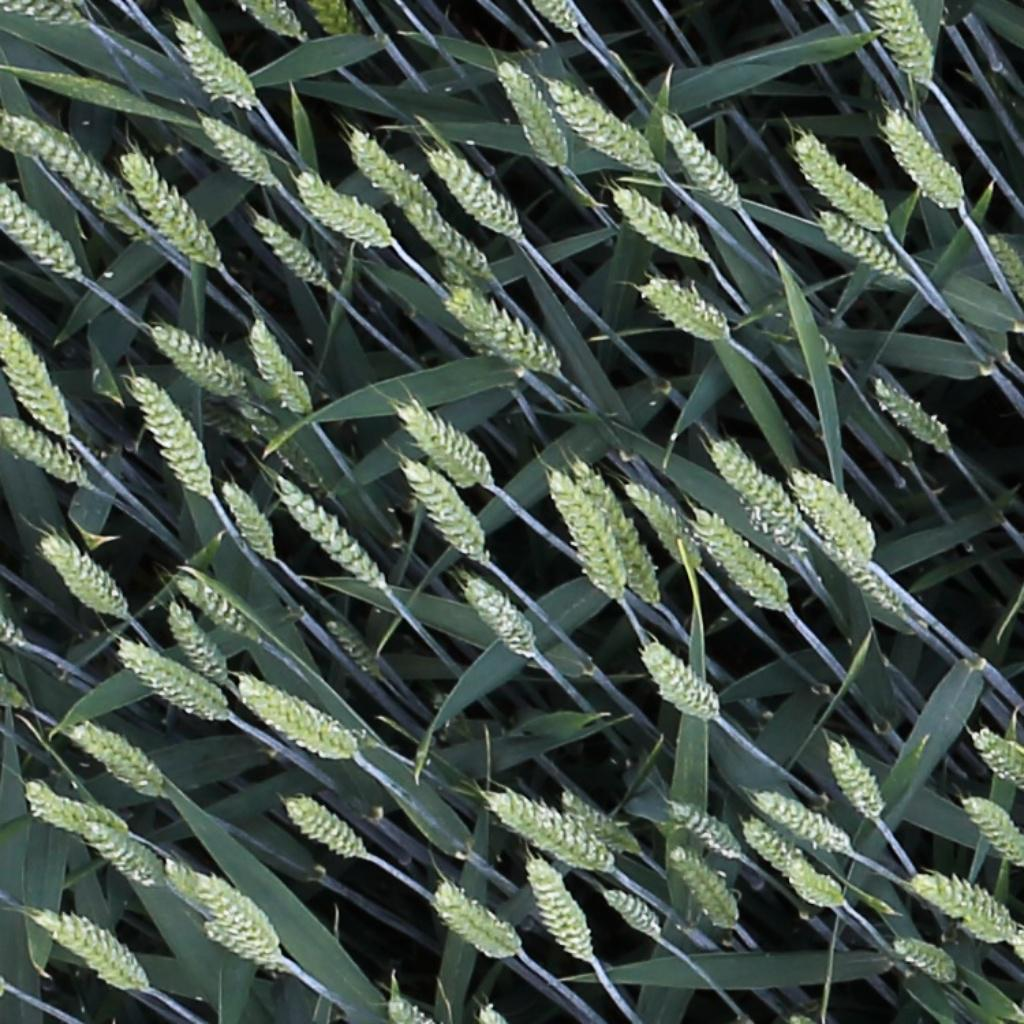0-0: (270, 475, 387, 595), (569, 466, 663, 607), (543, 462, 630, 604), (116, 147, 218, 267), (124, 374, 210, 501), (548, 81, 662, 175), (444, 283, 560, 375), (487, 792, 615, 875), (34, 910, 154, 993), (6, 111, 117, 200), (236, 679, 358, 759), (400, 453, 487, 565), (113, 640, 231, 722), (0, 308, 70, 443), (167, 865, 278, 950), (652, 107, 742, 211), (694, 513, 787, 613), (793, 129, 884, 226), (707, 439, 800, 533), (492, 60, 569, 172), (883, 109, 968, 210), (167, 17, 260, 109), (427, 146, 520, 237), (38, 534, 130, 623), (522, 854, 593, 968), (0, 180, 81, 279), (906, 873, 1018, 944), (296, 172, 393, 252), (345, 125, 435, 211), (793, 468, 876, 561), (243, 314, 315, 420), (816, 532, 903, 615), (608, 185, 705, 259), (432, 880, 521, 960), (397, 405, 490, 481), (401, 199, 488, 279), (664, 847, 740, 932), (159, 599, 228, 692), (638, 643, 718, 723), (66, 727, 159, 793), (817, 207, 902, 279), (172, 574, 258, 645), (248, 210, 326, 288), (869, 376, 950, 451), (195, 111, 276, 186), (640, 278, 728, 347), (211, 475, 277, 566), (753, 794, 849, 856), (462, 578, 536, 658), (73, 823, 159, 888), (147, 326, 240, 386), (623, 479, 690, 562), (823, 737, 884, 827), (0, 416, 81, 483), (282, 798, 364, 864), (557, 790, 636, 856), (24, 782, 126, 832), (961, 795, 1024, 872), (875, 1, 932, 86), (666, 802, 742, 862), (197, 918, 281, 972), (738, 816, 804, 884), (320, 614, 380, 682), (158, 348, 238, 397), (972, 730, 1024, 794), (891, 937, 957, 984), (984, 225, 1024, 301), (96, 194, 157, 242), (602, 888, 660, 936), (237, 0, 300, 40), (787, 868, 846, 910), (311, 0, 356, 40), (535, 0, 580, 38), (9, 1, 79, 25), (383, 995, 424, 1024)
